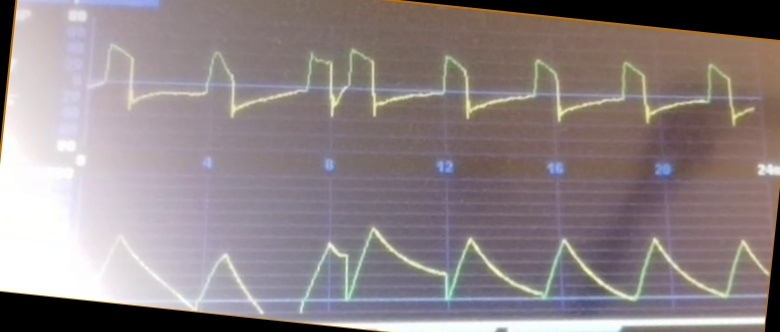Double_Triggering Flow: (153, 37, 708, 141)
Double_Triggering Volume: (123, 221, 729, 314)
